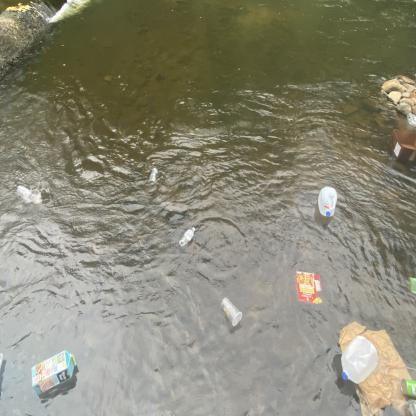trash: (335, 320, 416, 416), (30, 349, 80, 399), (337, 330, 380, 388), (292, 268, 326, 308), (219, 294, 247, 329), (387, 127, 416, 160), (315, 184, 341, 219), (13, 182, 40, 206), (176, 223, 198, 252), (144, 162, 162, 193), (398, 376, 416, 397), (407, 274, 416, 296), (405, 110, 416, 127)
